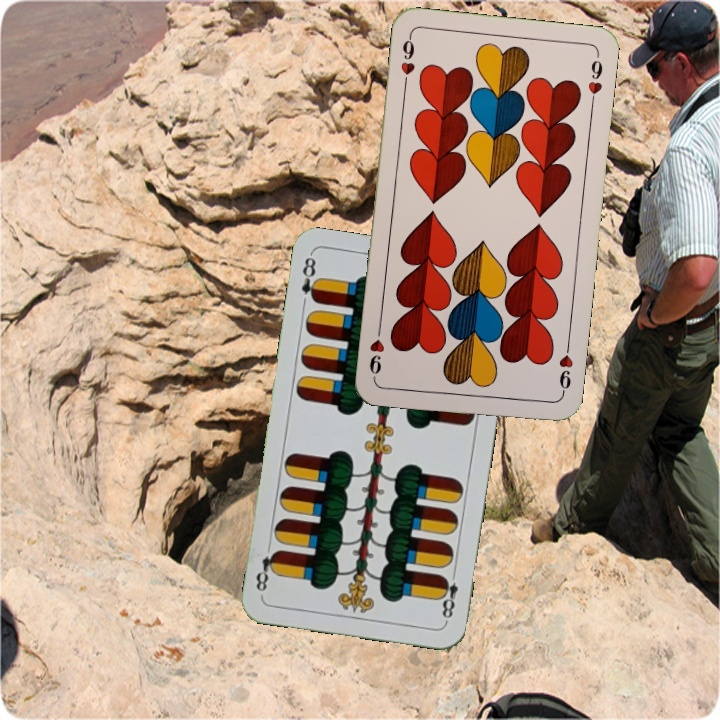E8: (436, 566, 461, 624), (297, 252, 322, 305)
H9: (396, 31, 418, 91), (554, 339, 576, 399)
